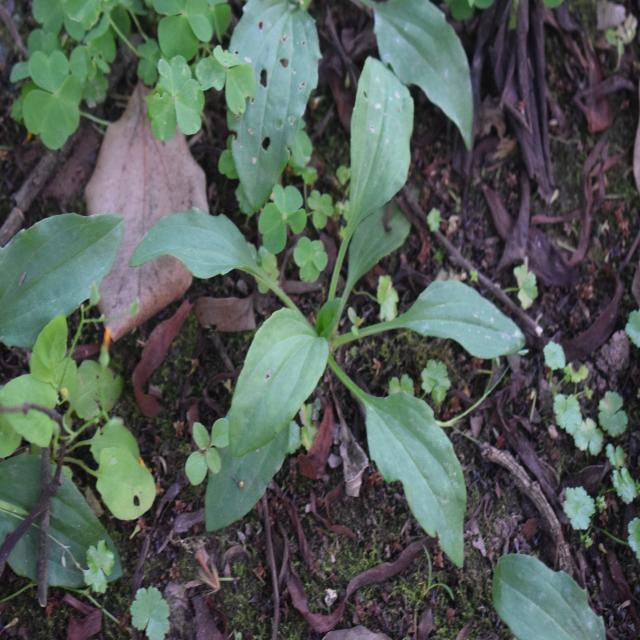plantain: (160, 113, 507, 538)
